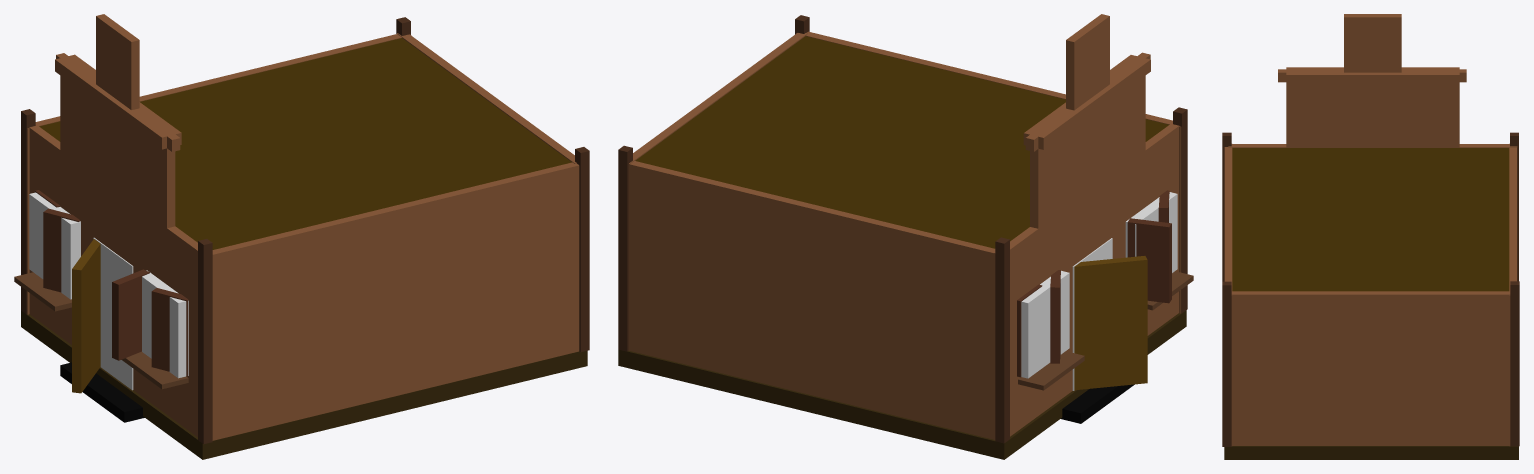
Rendered from SmallBuildings.fbx.
3 views of the same model, side by side, from view 1: azimuth 30°, elevation 25°; view 2: azimuth 150°, elevation 25°; view 3: azimuth 270°, elevation 25° (orthographic). The views are drawn at different scales.
Parts seen in each view (by area): view 1: Cube, Cube.006, Cube.004, Cube.001, Cube.013, Cube.010, Cube.009, Cube.008, Cube.016, Cube.007, Cube.011, Cube.003 (+7 smaller); view 2: Cube.003, Cube.006, Cube.004, Cube.013, Cube.001, Cube.009, Cube.002, Cube.016, Cube.012, Cube, Cube.005, Cube.010 (+5 smaller); view 3: Cube.005, Cube.006, Cube.004, Cube.001, Cube.011, Cube.012, Cube, Cube.003, Cube.010, Cube.002.
Part boxes in pixels (x1,y1,x2,y2): Cube: (212,162,579,440); Cube.006: (39,38,571,249); Cube.004: (29,14,197,437); Cube.001: (21,311,587,459); Cube.013: (72,239,100,393); Cube.010: (198,239,212,443); Cube.009: (29,192,80,299); Cube.008: (142,270,188,378); Cube.016: (112,269,149,360); Cube.007: (93,237,133,390); Cube.011: (575,147,589,351); Cube.003: (27,34,411,314); Cube.003: (629,161,995,439); Cube.006: (635,36,1168,248); Cube.004: (994,14,1178,439); Cube.013: (1074,256,1147,390); Cube.001: (618,310,1186,459); Cube.009: (1021,270,1069,378); Cube.002: (995,237,1009,443); Cube.016: (1127,218,1171,303); Cube.012: (618,145,632,351); Cube: (796,31,1181,313); Cube.005: (628,33,807,350); Cube.010: (1173,107,1187,313); Cube.005: (1231,291,1510,445); Cube.006: (1232,148,1509,291); Cube.004: (1228,14,1517,280); Cube.001: (1224,446,1518,459); Cube.011: (1222,281,1231,446); Cube.012: (1510,281,1519,446); Cube: (1224,147,1232,445); Cube.003: (1509,143,1516,446); Cube.010: (1222,132,1231,281); Cube.002: (1510,132,1518,281).
Size of the model in its own units: 10373 by 8380 by 7625.
